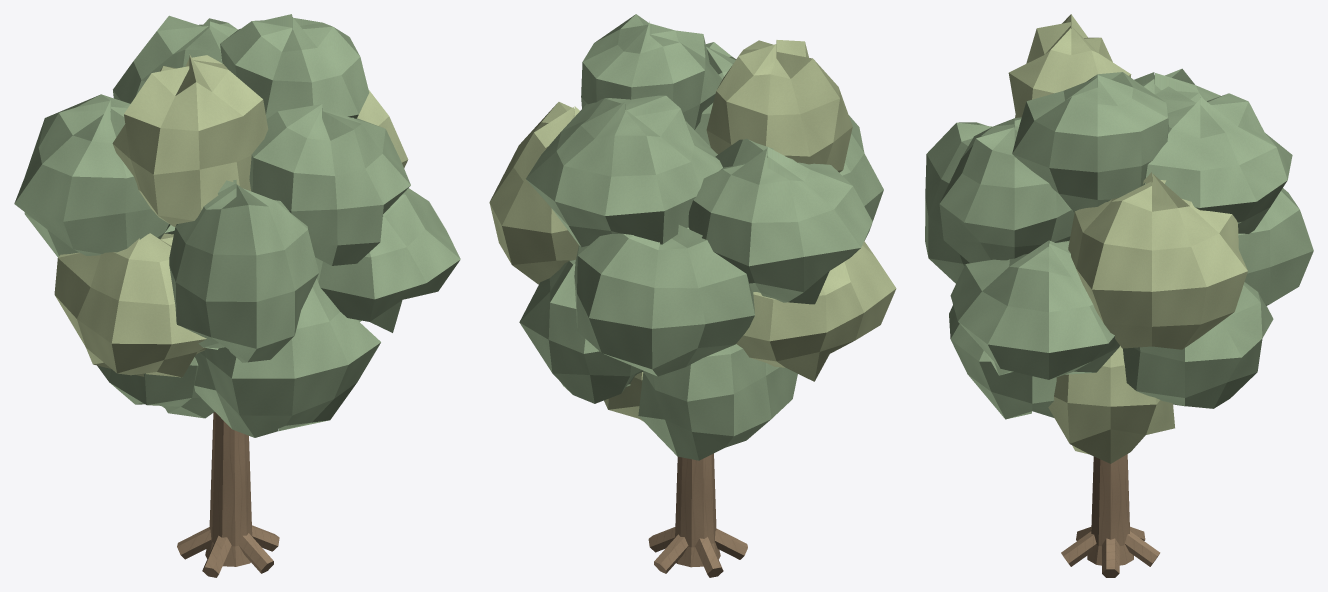
The model's file is tree_oak_01.glb.
3 renders of one model, left to right at view 1: azimuth 30°, elevation 25°; view 2: azimuth 150°, elevation 25°; view 3: azimuth 270°, elevation 25°, orthographic. The views are drawn at different scales.
Visible parts, largest first — view 1: tree_oak_01__tree; view 2: tree_oak_01__tree; view 3: tree_oak_01__tree.
Part boxes in pixels (<box>): tree_oak_01__tree: <box>14,14,460,577</box>; tree_oak_01__tree: <box>489,14,896,577</box>; tree_oak_01__tree: <box>925,14,1313,577</box>.
Size of the model in its own units: 4.22 by 5.75 by 3.97.
3 materials, 3 textured.
